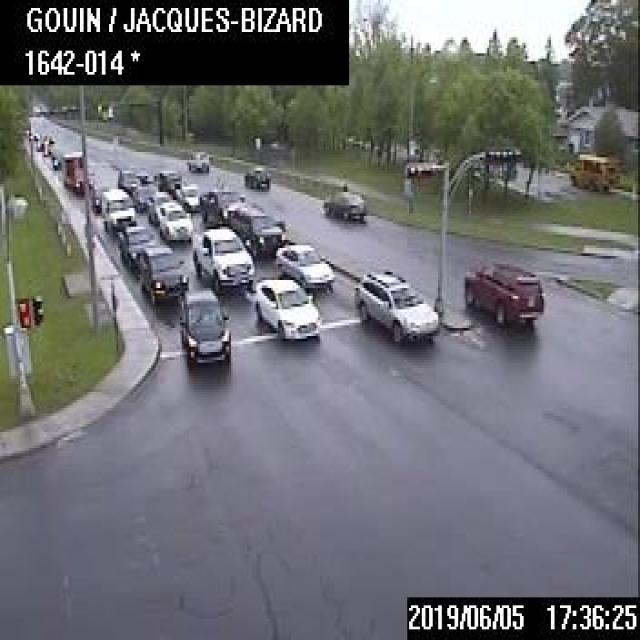bus: (568, 152, 618, 190)
vehicle: (353, 268, 437, 342), (462, 262, 542, 324), (191, 225, 253, 290), (253, 276, 319, 337), (178, 287, 230, 364), (226, 202, 284, 256), (138, 245, 188, 304), (274, 242, 333, 286), (197, 188, 244, 225), (116, 223, 155, 267), (100, 186, 135, 232), (61, 149, 93, 194), (156, 200, 190, 239), (321, 190, 365, 219), (146, 190, 171, 221), (152, 168, 180, 193), (173, 184, 198, 207), (242, 165, 268, 187), (116, 168, 138, 192), (184, 150, 208, 170), (131, 184, 148, 210), (89, 185, 105, 211), (50, 150, 62, 168)
